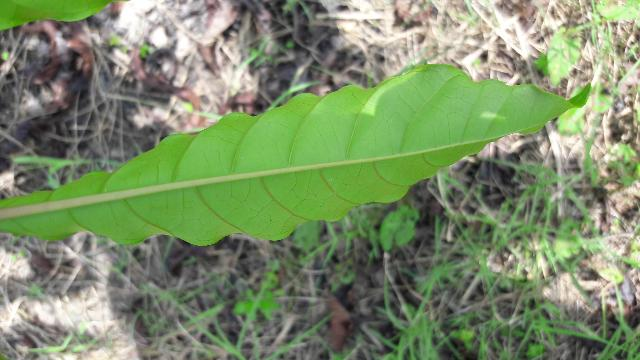healthy: (0, 67, 589, 246)
